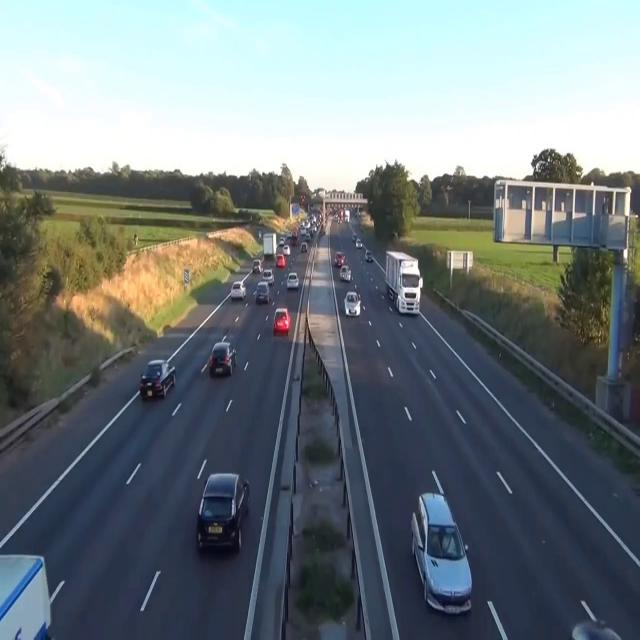belum terisi: (408, 489, 472, 619), (190, 462, 252, 548), (381, 246, 427, 320), (136, 348, 178, 402), (208, 333, 237, 384), (270, 296, 292, 340), (344, 286, 364, 323), (231, 277, 248, 302), (256, 282, 268, 304)
